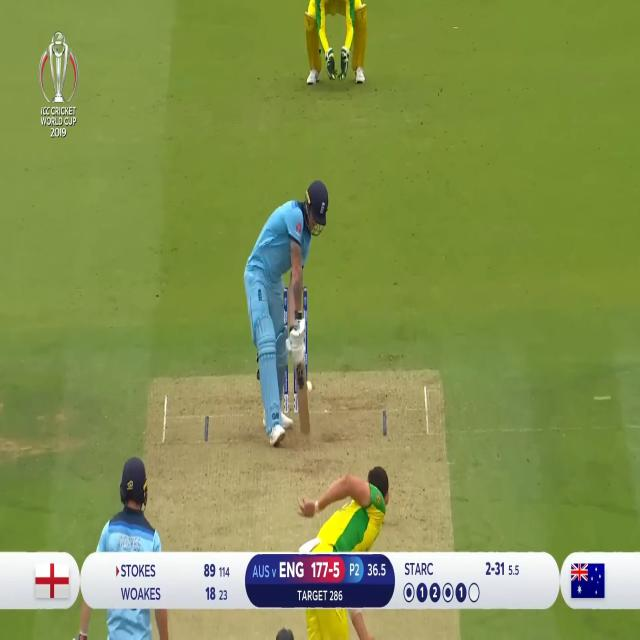ball: (306, 374, 316, 396)
